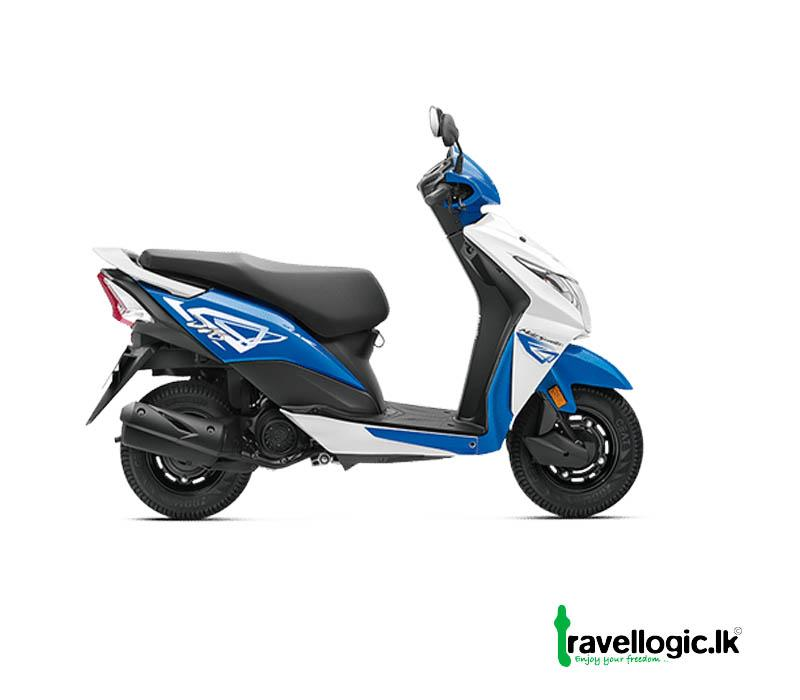motorbike: (85, 105, 644, 521)
